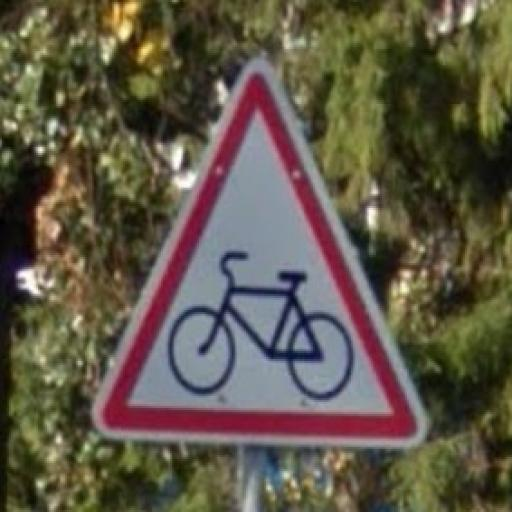traffic_sign: (90, 60, 432, 450)
